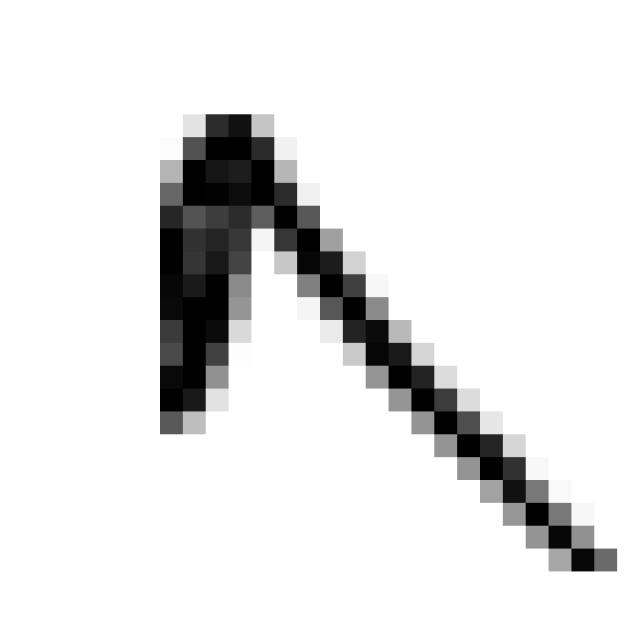8 -eight-: (121, 87, 624, 600)
